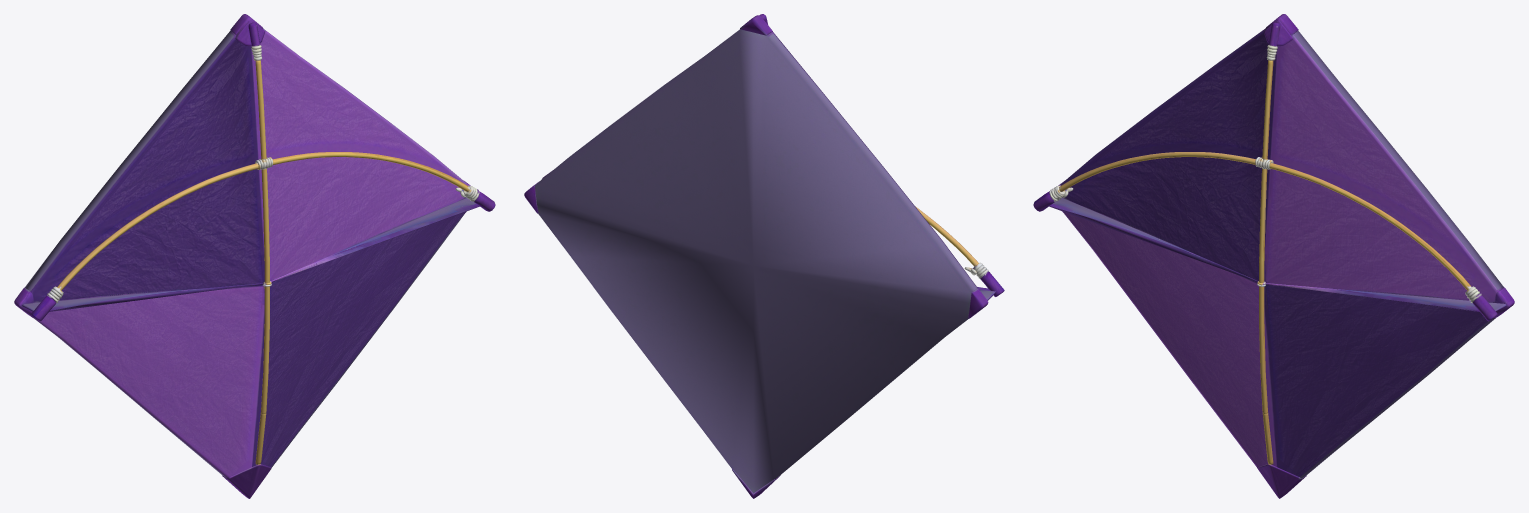
The model's file is purple+diamond+kite+3d+model.glb.
3 renders of one model, left to right at view 1: azimuth 30°, elevation 25°; view 2: azimuth 150°, elevation 25°; view 3: azimuth 330°, elevation 25°, orthographic.
Visible parts, largest first — view 1: tripo_node_a14a34d6-aa48-41b1-8066-14b43c73757a; view 2: tripo_node_a14a34d6-aa48-41b1-8066-14b43c73757a; view 3: tripo_node_a14a34d6-aa48-41b1-8066-14b43c73757a.
Part boxes in pixels (x1,y1,x2,y2): tripo_node_a14a34d6-aa48-41b1-8066-14b43c73757a: (14, 14, 495, 498); tripo_node_a14a34d6-aa48-41b1-8066-14b43c73757a: (524, 14, 1004, 498); tripo_node_a14a34d6-aa48-41b1-8066-14b43c73757a: (1033, 14, 1514, 498).
Size of the model in its own units: 0.9995 by 0.9956 by 0.0981.
Materials: 1 (1 with a texture image).
